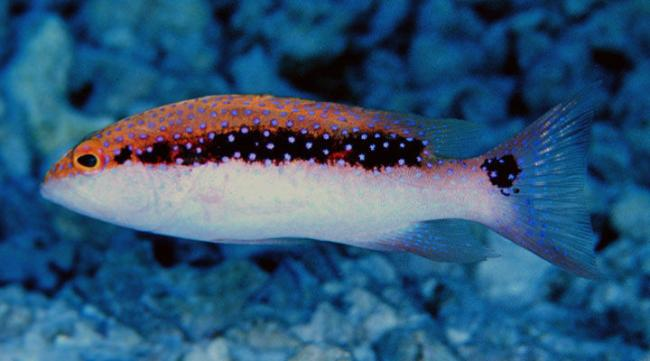fish: (39, 93, 608, 282)
